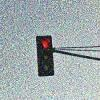traffic lights: (37, 33, 54, 77)
